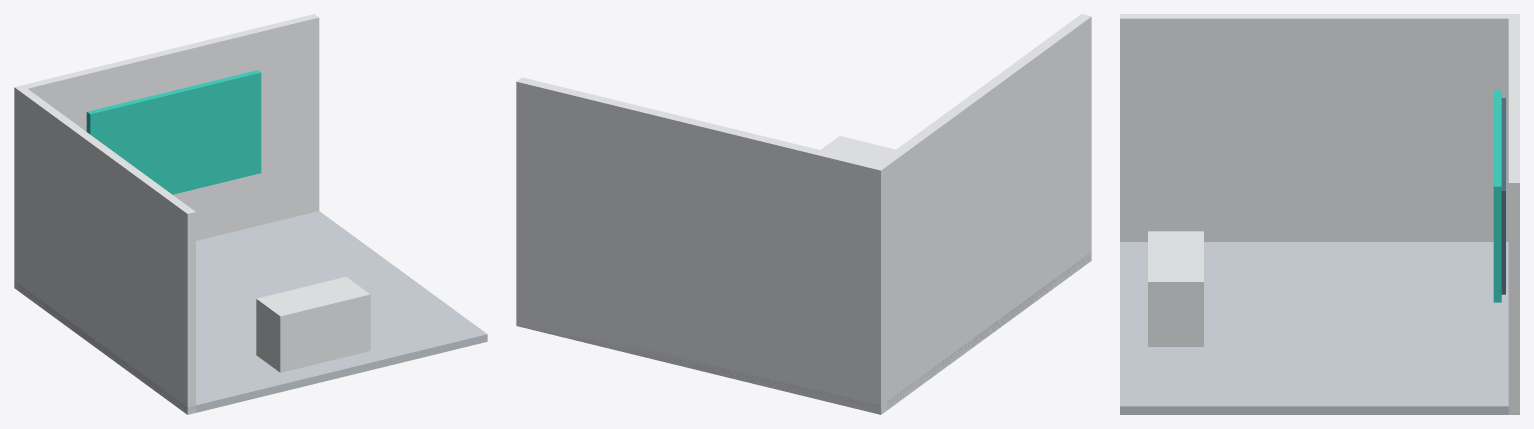
The picture shows the model from 3 angles, left to right: view 1: azimuth 30°, elevation 25°; view 2: azimuth 150°, elevation 25°; view 3: azimuth 270°, elevation 25°; orthographic projection. The views are drawn at different scales.
Parts seen in each view (by area): view 1: Exhibition Booth Concept; view 2: Exhibition Booth Concept; view 3: Exhibition Booth Concept.
Boxes of the visible parts, bbox=[...] form: Exhibition Booth Concept: bbox=[14, 14, 487, 414]; Exhibition Booth Concept: bbox=[516, 14, 1091, 414]; Exhibition Booth Concept: bbox=[1120, 14, 1519, 414].
Size of the model in its own units: 5 by 3.2 by 5.
